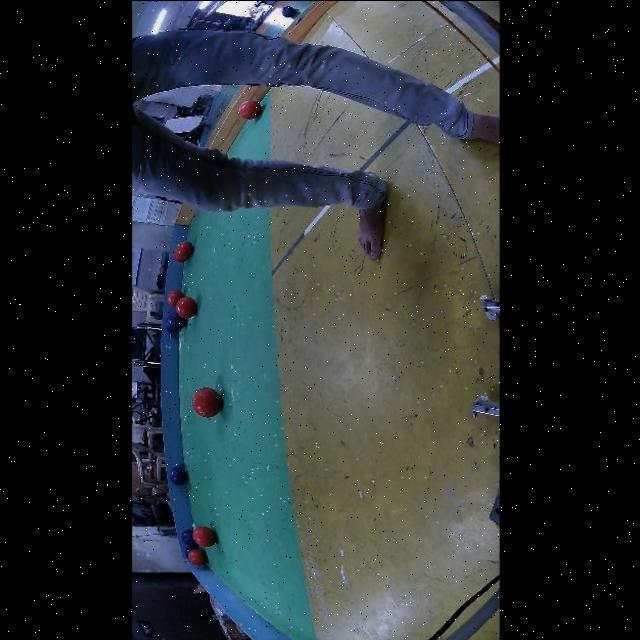P: (168, 310, 187, 329), (170, 466, 188, 485), (182, 528, 196, 545), (164, 316, 175, 332), (282, 6, 297, 17), (185, 545, 195, 558)
R: (192, 386, 222, 417), (193, 526, 218, 546), (176, 296, 197, 317), (239, 99, 261, 118), (188, 549, 208, 565), (168, 288, 184, 306), (177, 239, 193, 257), (173, 248, 188, 262)
